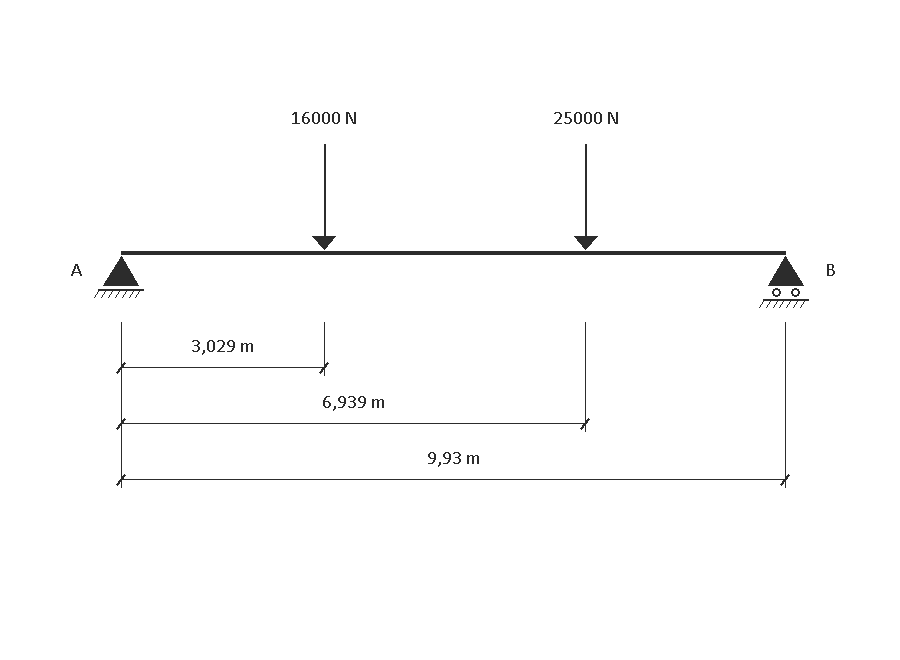pin_support: (94, 256, 144, 298)
point_load: (312, 144, 336, 250), (574, 144, 598, 250)
roller_support: (759, 256, 809, 308)
